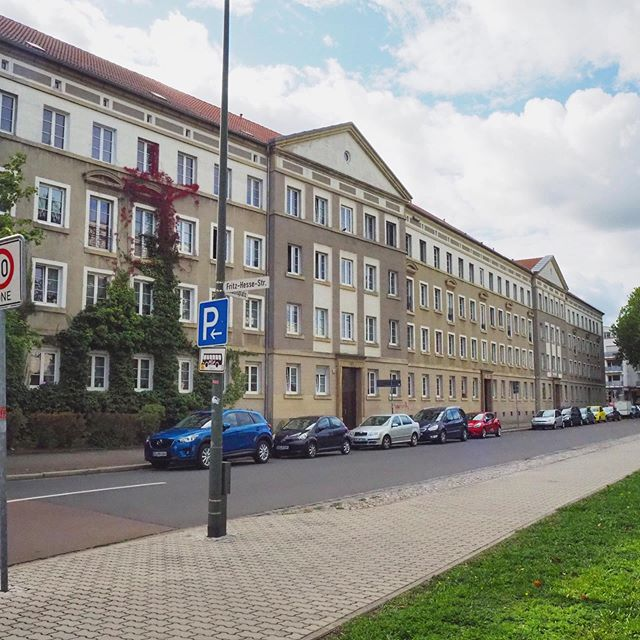building: (1, 63, 603, 426)
car: (139, 405, 274, 468), (282, 410, 349, 461), (353, 406, 420, 457), (421, 405, 466, 445), (465, 410, 500, 439)
sign: (196, 294, 236, 377)
sky: (161, 2, 640, 264)
street: (1, 426, 621, 562)
